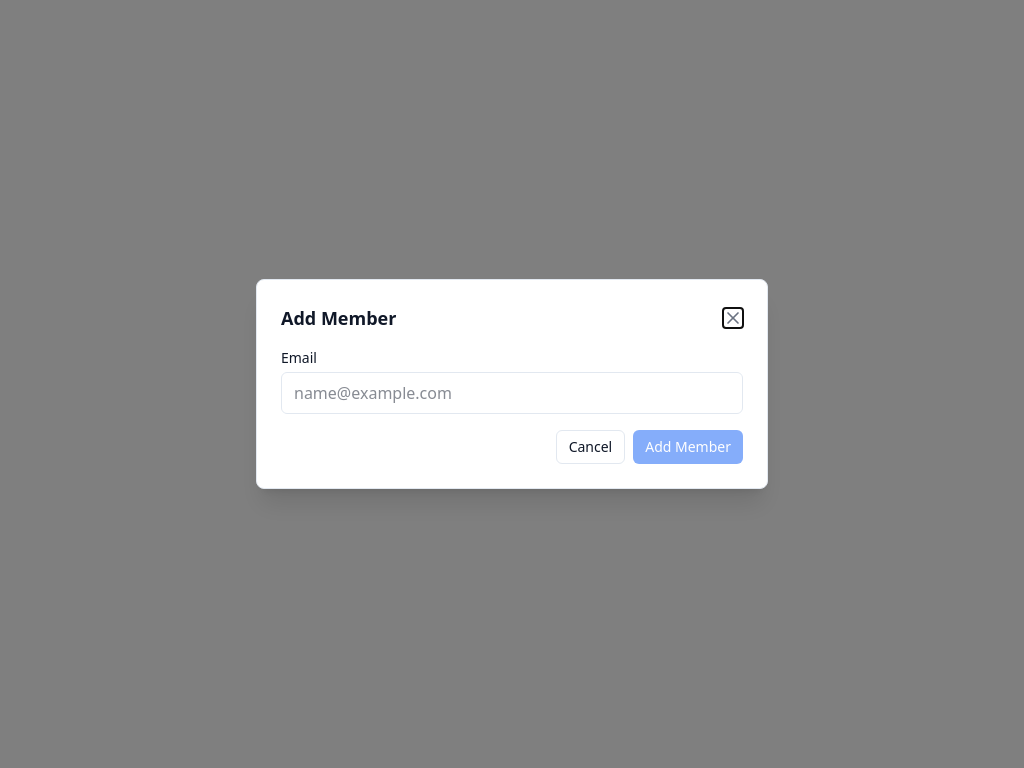
Test case: AddMemberModal › branch 1 — email already on roster → "Already a Member", primary disabled
Step 1. Type "onroster@example.com" into the field named "Member email" → (512, 393), box [281,372,743,414]
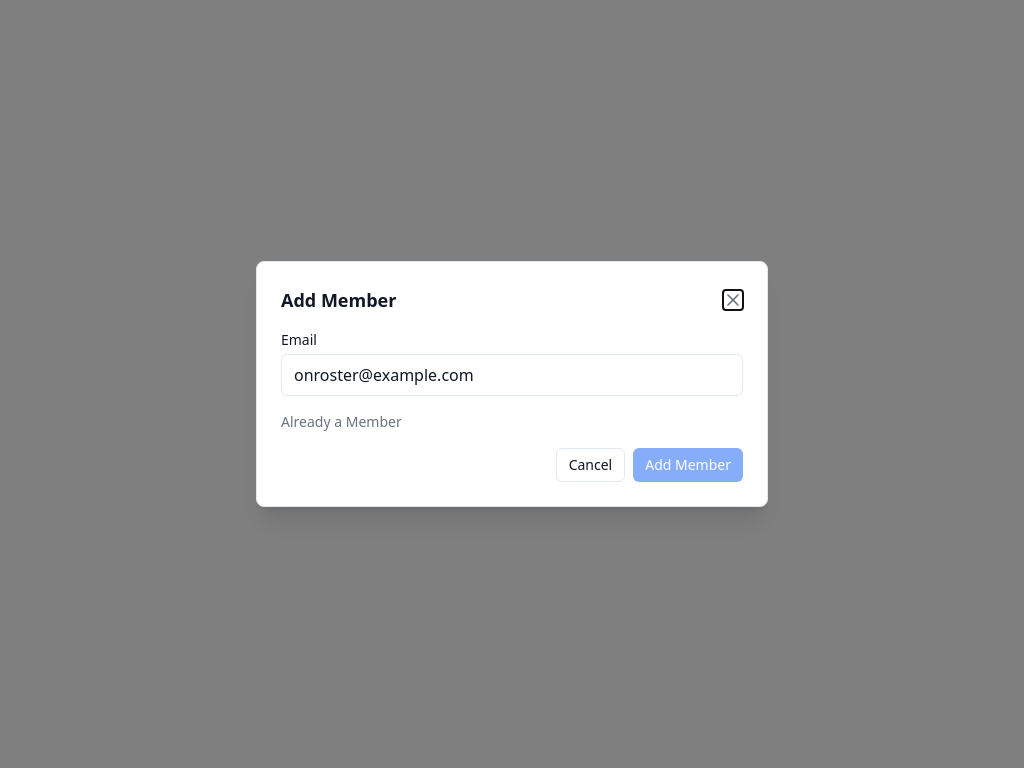
expect the button "Add Member" is disabled: met, box [633,448,743,482]
expect the text "Already a Member" is shown: met, box [281,412,402,431]
